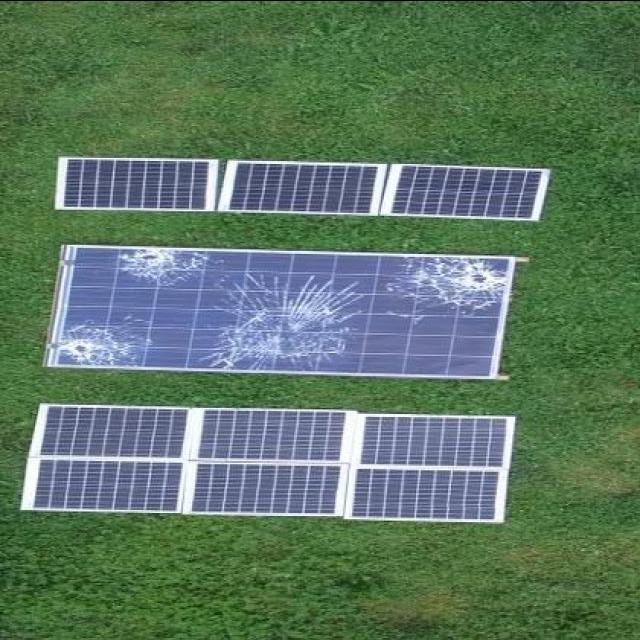cracked: (42, 242, 528, 387)
